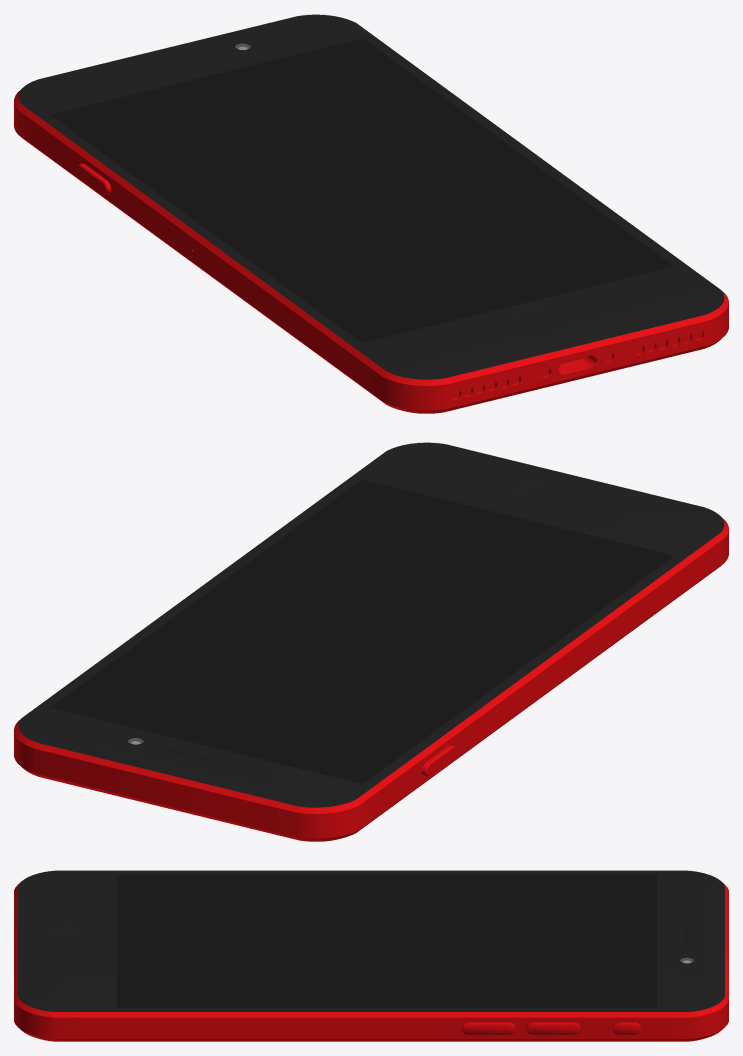
File: phone.fbx
The picture shows the model from 3 angles, top to bottom: view 1: azimuth 30°, elevation 25°; view 2: azimuth 150°, elevation 25°; view 3: azimuth 270°, elevation 25°; orthographic projection. The views are drawn at different scales.
Parts seen in each view (by area): view 1: Mobile; view 2: Mobile; view 3: Mobile.
Part boxes in pixels (left/top/right/bottom): Mobile: left=14, top=14, right=728, bottom=413; Mobile: left=14, top=442, right=728, bottom=841; Mobile: left=14, top=870, right=728, bottom=1041.
Bounding box in the file's own units: 6.73 × 0.8288 × 13.77.
